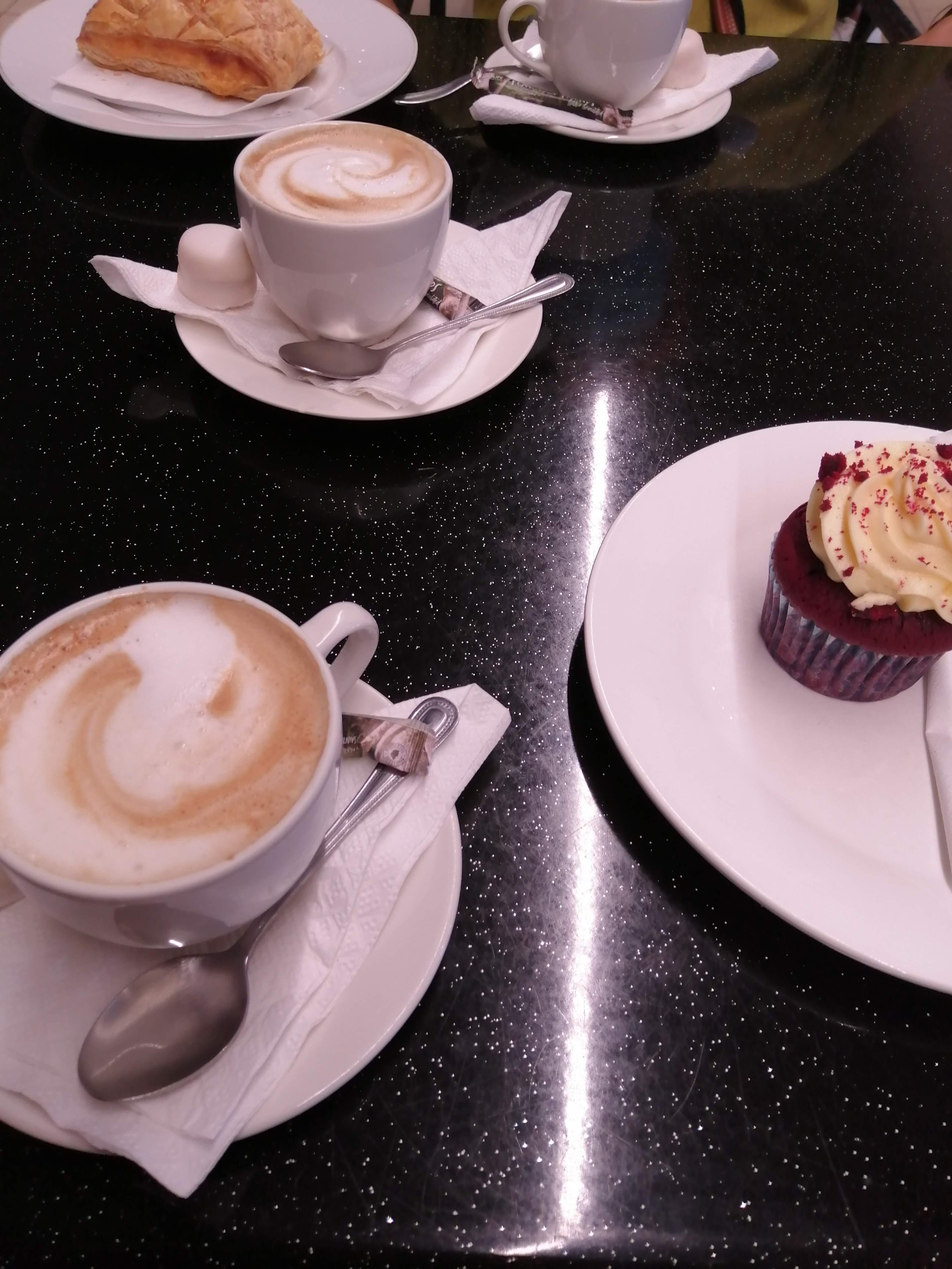mug: (0, 581, 380, 957), (233, 121, 453, 346), (498, 0, 691, 111)
